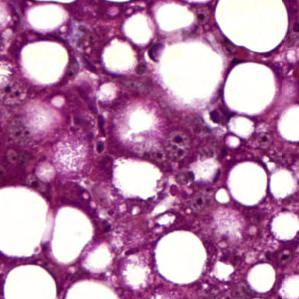steatosis: (223, 62, 278, 116), (107, 159, 168, 200), (18, 40, 72, 86), (49, 208, 96, 260), (154, 233, 207, 279), (100, 37, 141, 76)
